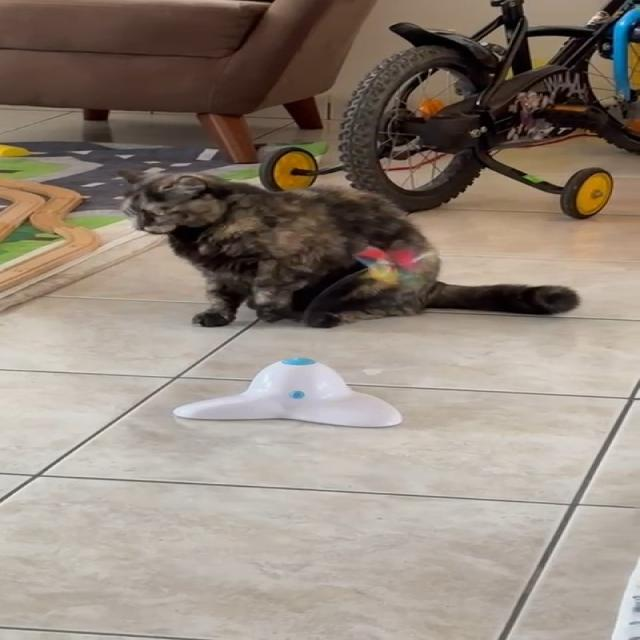authorized: (115, 166, 580, 329)
